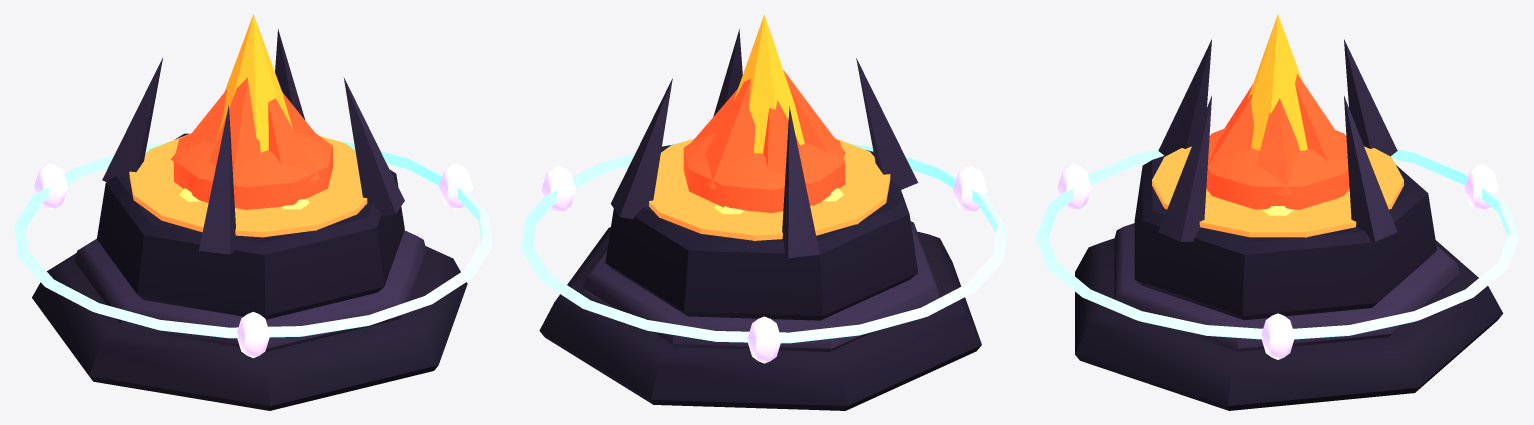
File: ombres_4.glb
3 renders of one model, left to right at view 1: azimuth 30°, elevation 25°; view 2: azimuth 150°, elevation 25°; view 3: azimuth 270°, elevation 25°, orthographic.
Parts seen in each view (by area): view 1: ombres_4_peint, Flamme_lueur, Lave, Rune, FeuMilieu, AnneauFlottant_lueur; view 2: ombres_4_peint, Flamme_lueur, Lave, Rune, FeuMilieu, AnneauFlottant_lueur; view 3: ombres_4_peint, Flamme_lueur, Rune, Lave, FeuMilieu, AnneauFlottant_lueur.
Part boxes in pixels (<box>): ombres_4_peint: <box>32,29,467,410</box>; Flamme_lueur: <box>171,77,332,209</box>; Lave: <box>129,133,367,237</box>; Rune: <box>14,140,492,338</box>; FeuMilieu: <box>217,14,292,152</box>; AnneauFlottant_lueur: <box>34,163,472,358</box>; ombres_4_peint: <box>539,29,981,410</box>; Flamme_lueur: <box>683,70,845,212</box>; Lave: <box>649,138,890,240</box>; Rune: <box>521,142,1007,343</box>; FeuMilieu: <box>733,14,804,153</box>; AnneauFlottant_lueur: <box>541,166,987,363</box>; ombres_4_peint: <box>1075,39,1503,410</box>; Flamme_lueur: <box>1206,74,1349,209</box>; Rune: <box>1036,149,1519,339</box>; Lave: <box>1152,146,1403,237</box>; FeuMilieu: <box>1248,14,1307,150</box>; AnneauFlottant_lueur: <box>1057,164,1498,359</box>.
Bounding box in the file's own units: 0.858 × 0.59 × 0.844.
